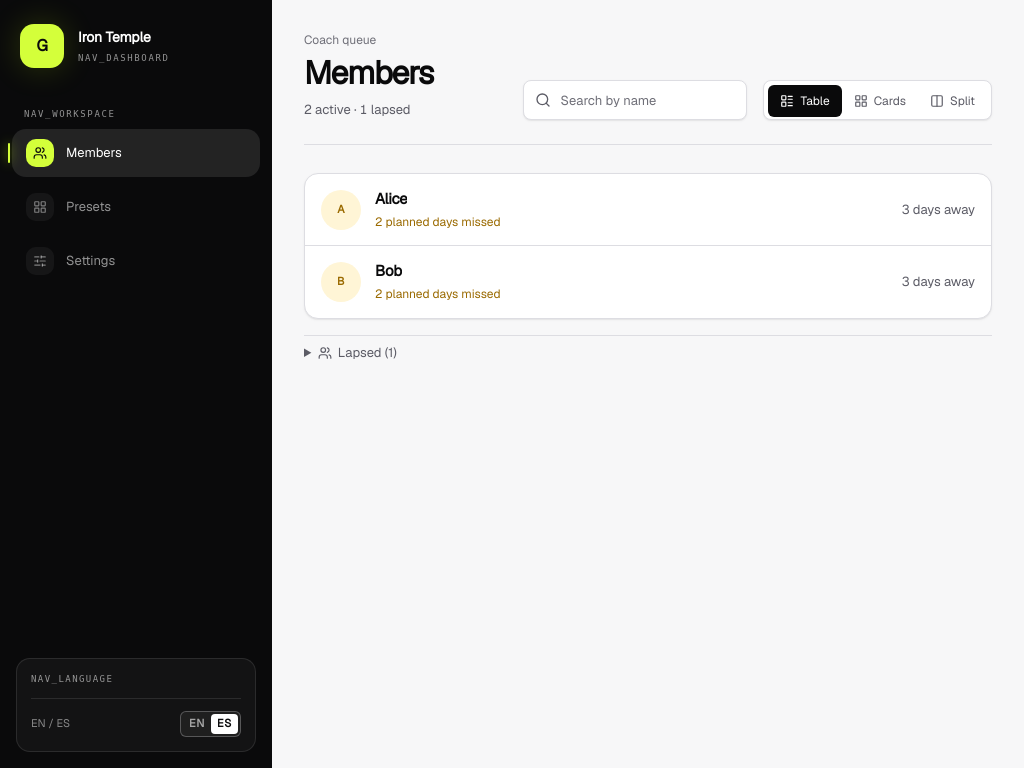
Test: RosterShell › shows no-match message when search yields nothing
Type "Zorro" into the search field with placeholder "Search by name" at (635, 100), box [523, 80, 747, 120]
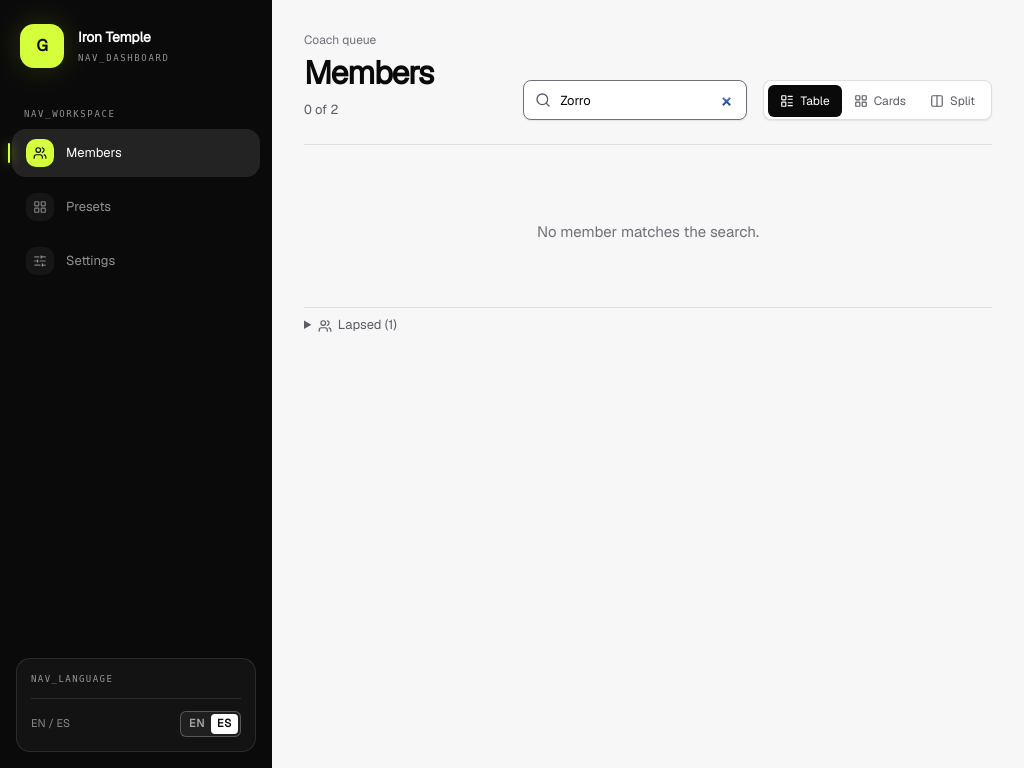
Check: the text "No member matches the search." is shown, box [537, 222, 759, 241]
